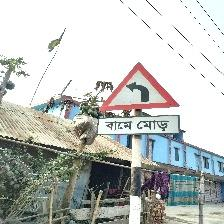Left-Turn: (97, 62, 182, 136)
